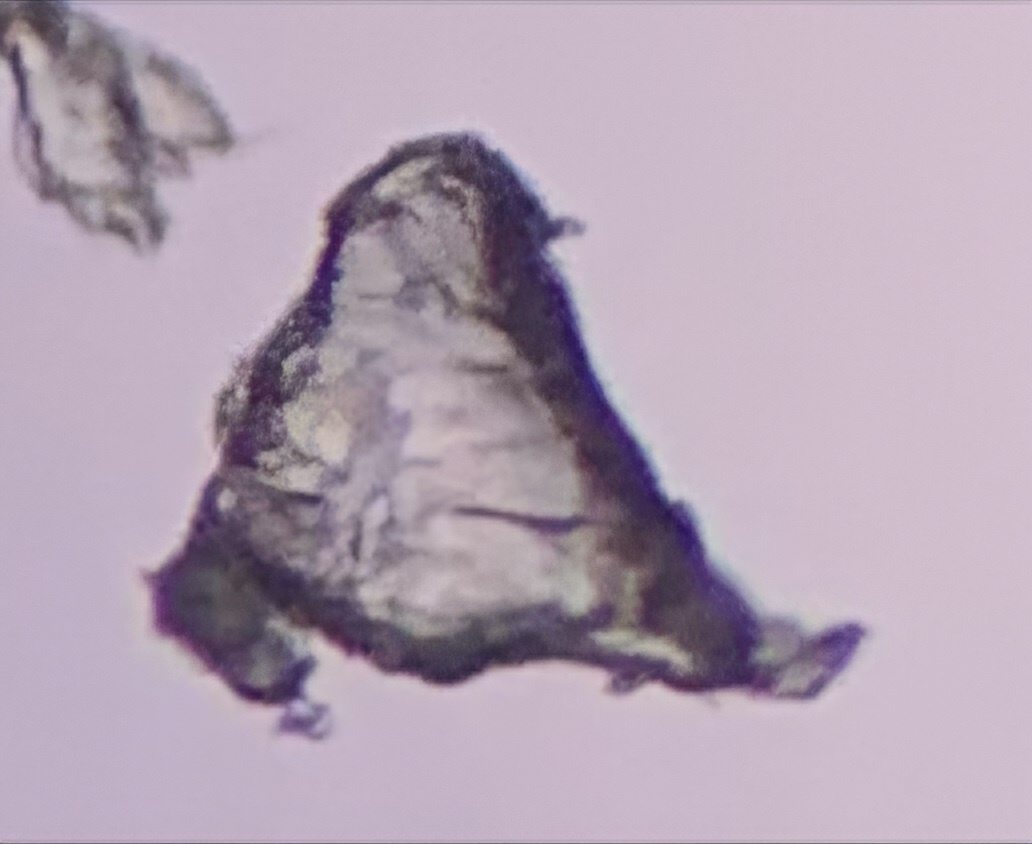microplastic: (133, 130, 869, 744), (1, 1, 238, 260)
